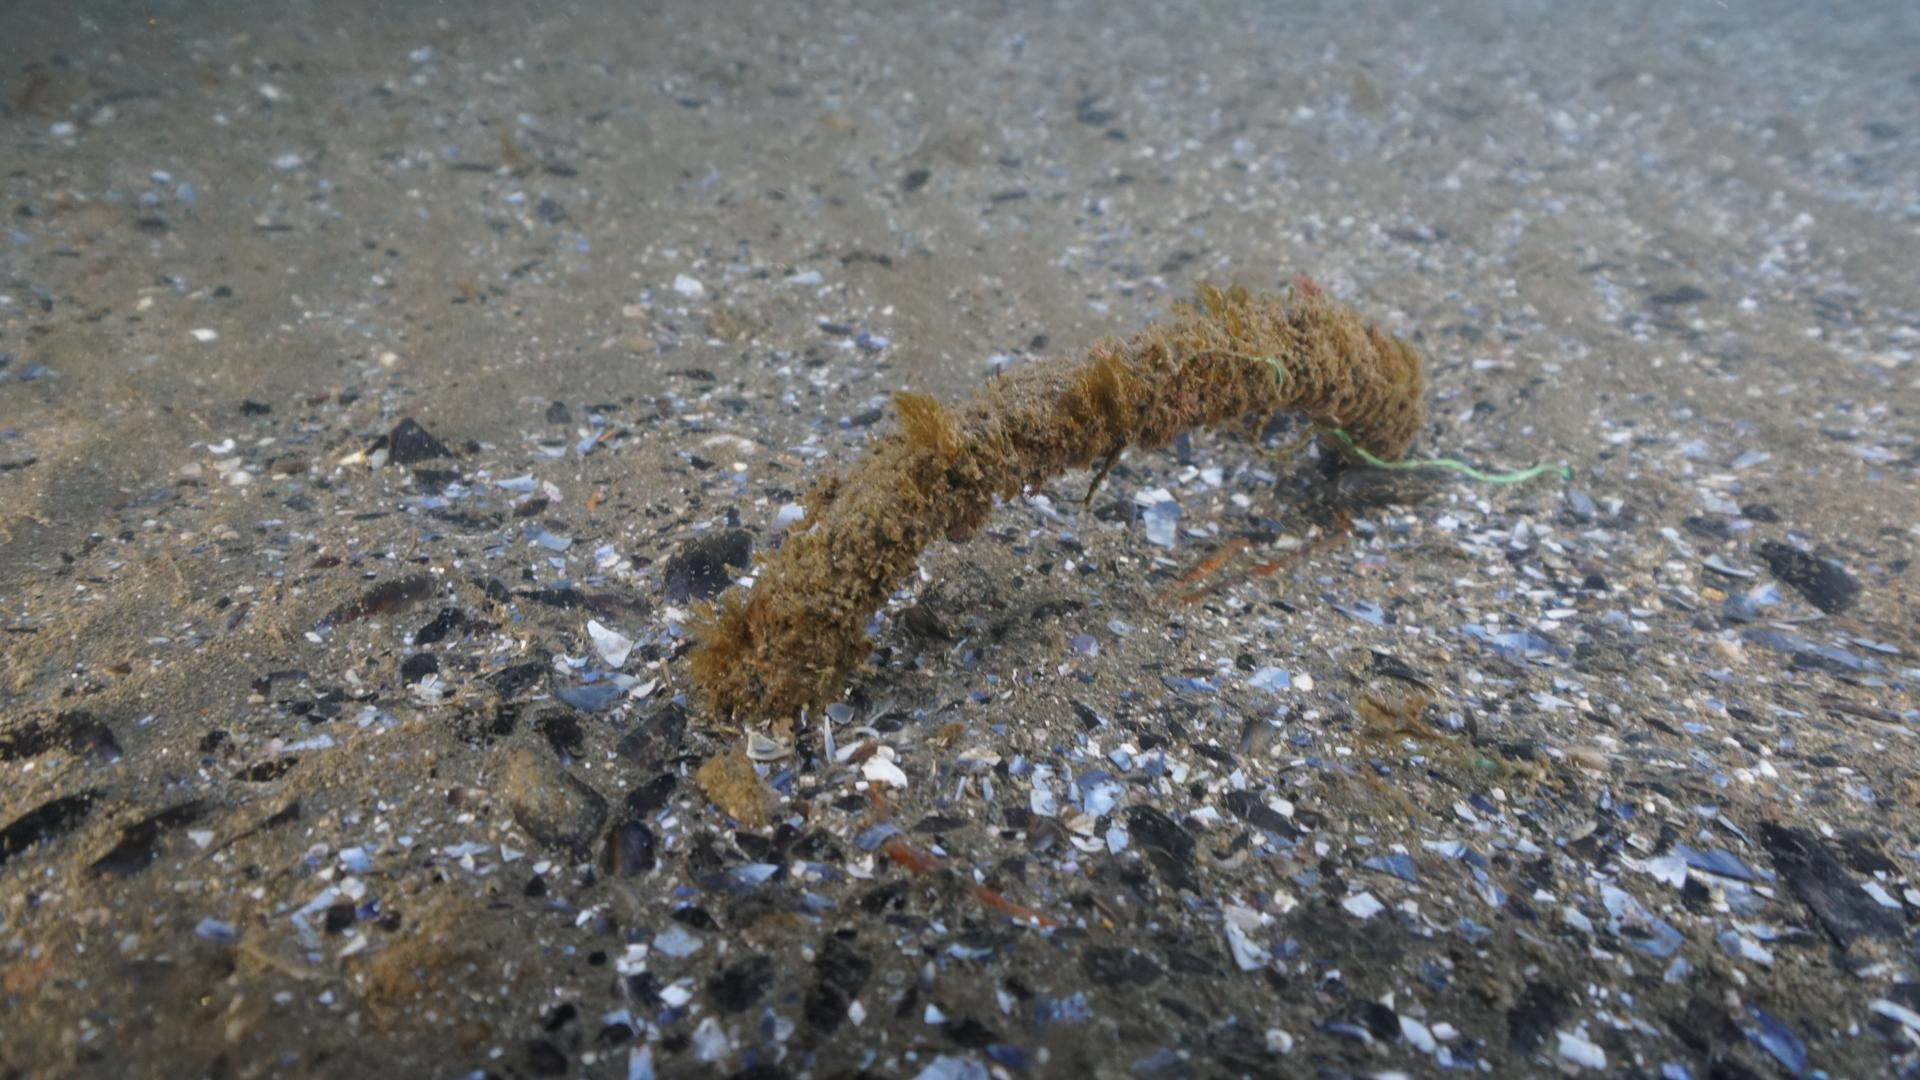rope: (682, 289, 1427, 705)
